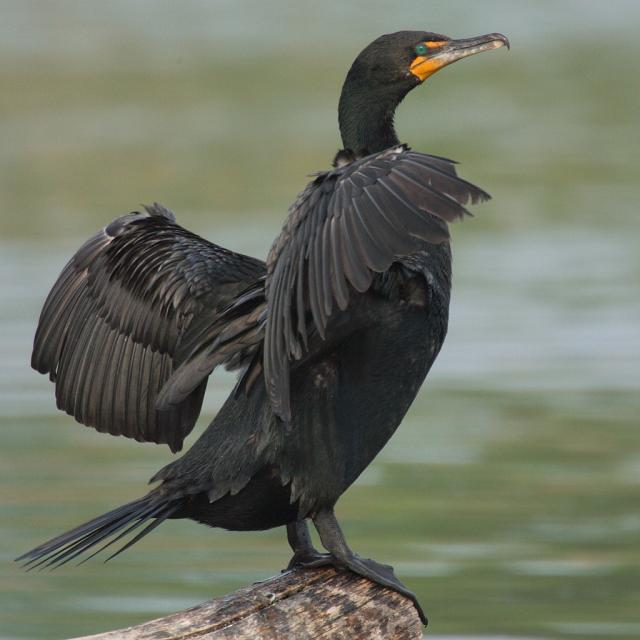bird: (16, 32, 528, 592)
